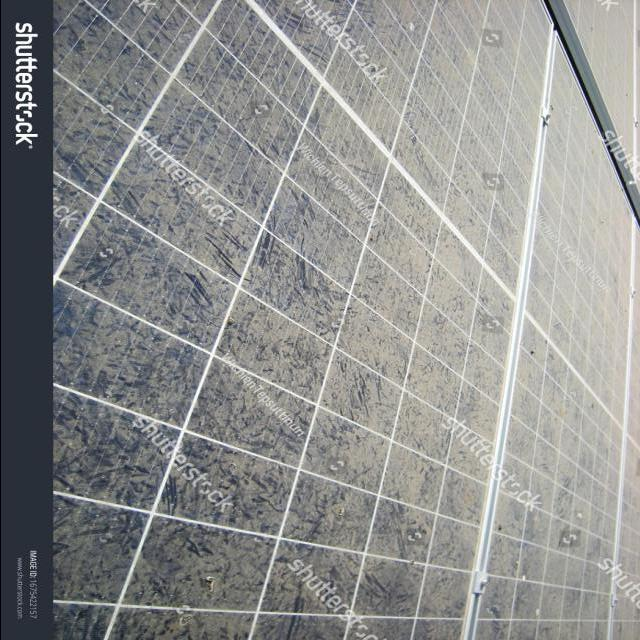soiled: (55, 2, 636, 640)
